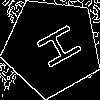H: (27, 22, 84, 75)
